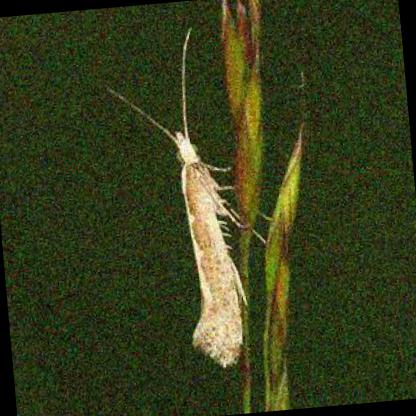plutella: (97, 17, 252, 378)
